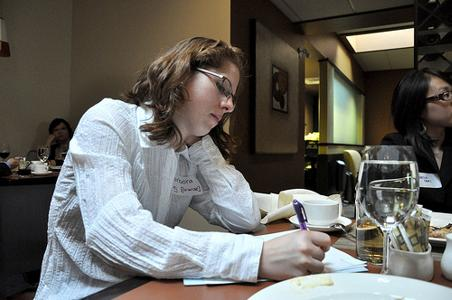person: (33, 38, 332, 300)
